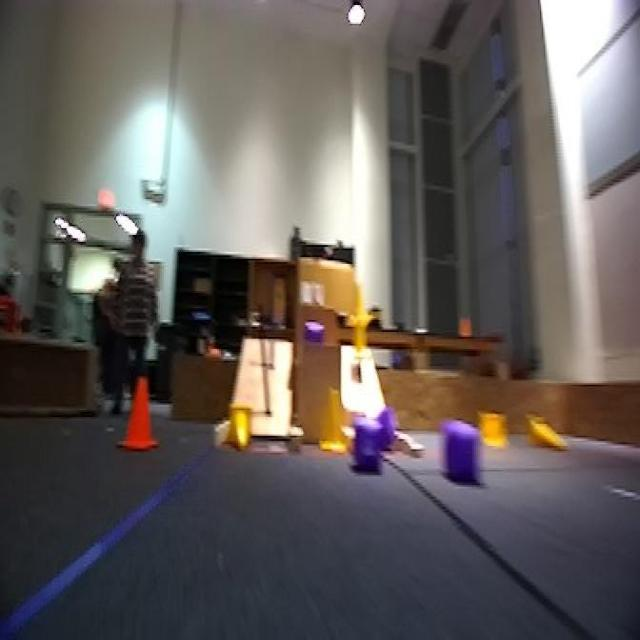frc_cone: (320, 385, 355, 458), (525, 415, 564, 453), (477, 405, 507, 451), (229, 400, 255, 449), (348, 312, 372, 364), (354, 274, 372, 330)
frc_cube: (441, 427, 482, 482), (346, 417, 380, 465), (376, 405, 392, 444), (304, 327, 324, 344)
